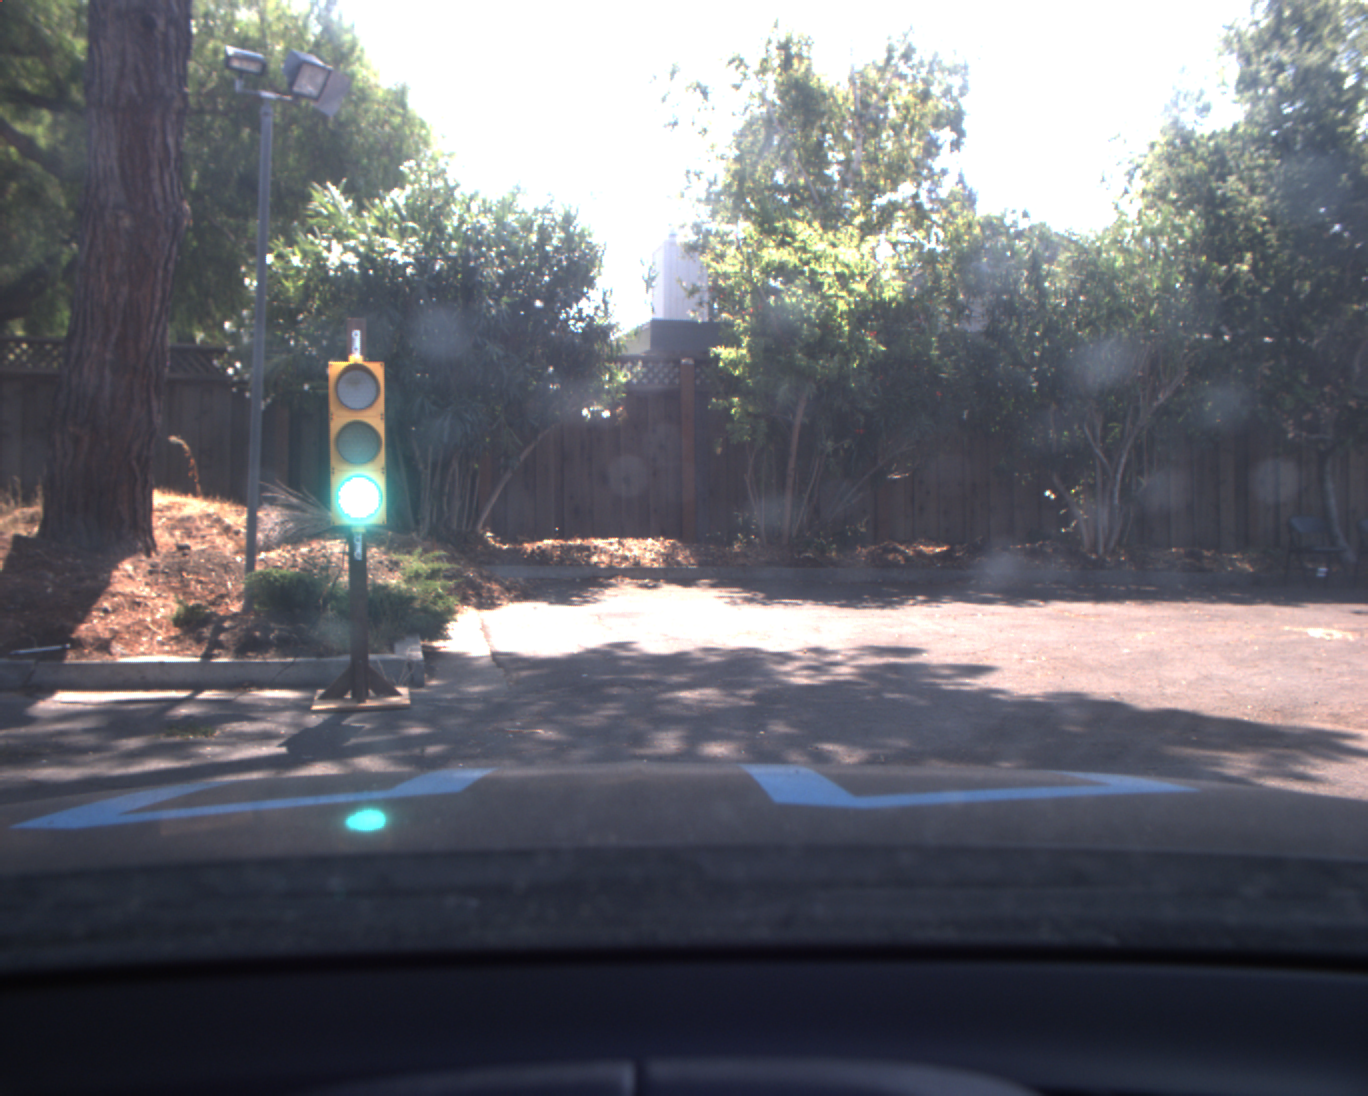green: (326, 358, 391, 529)
